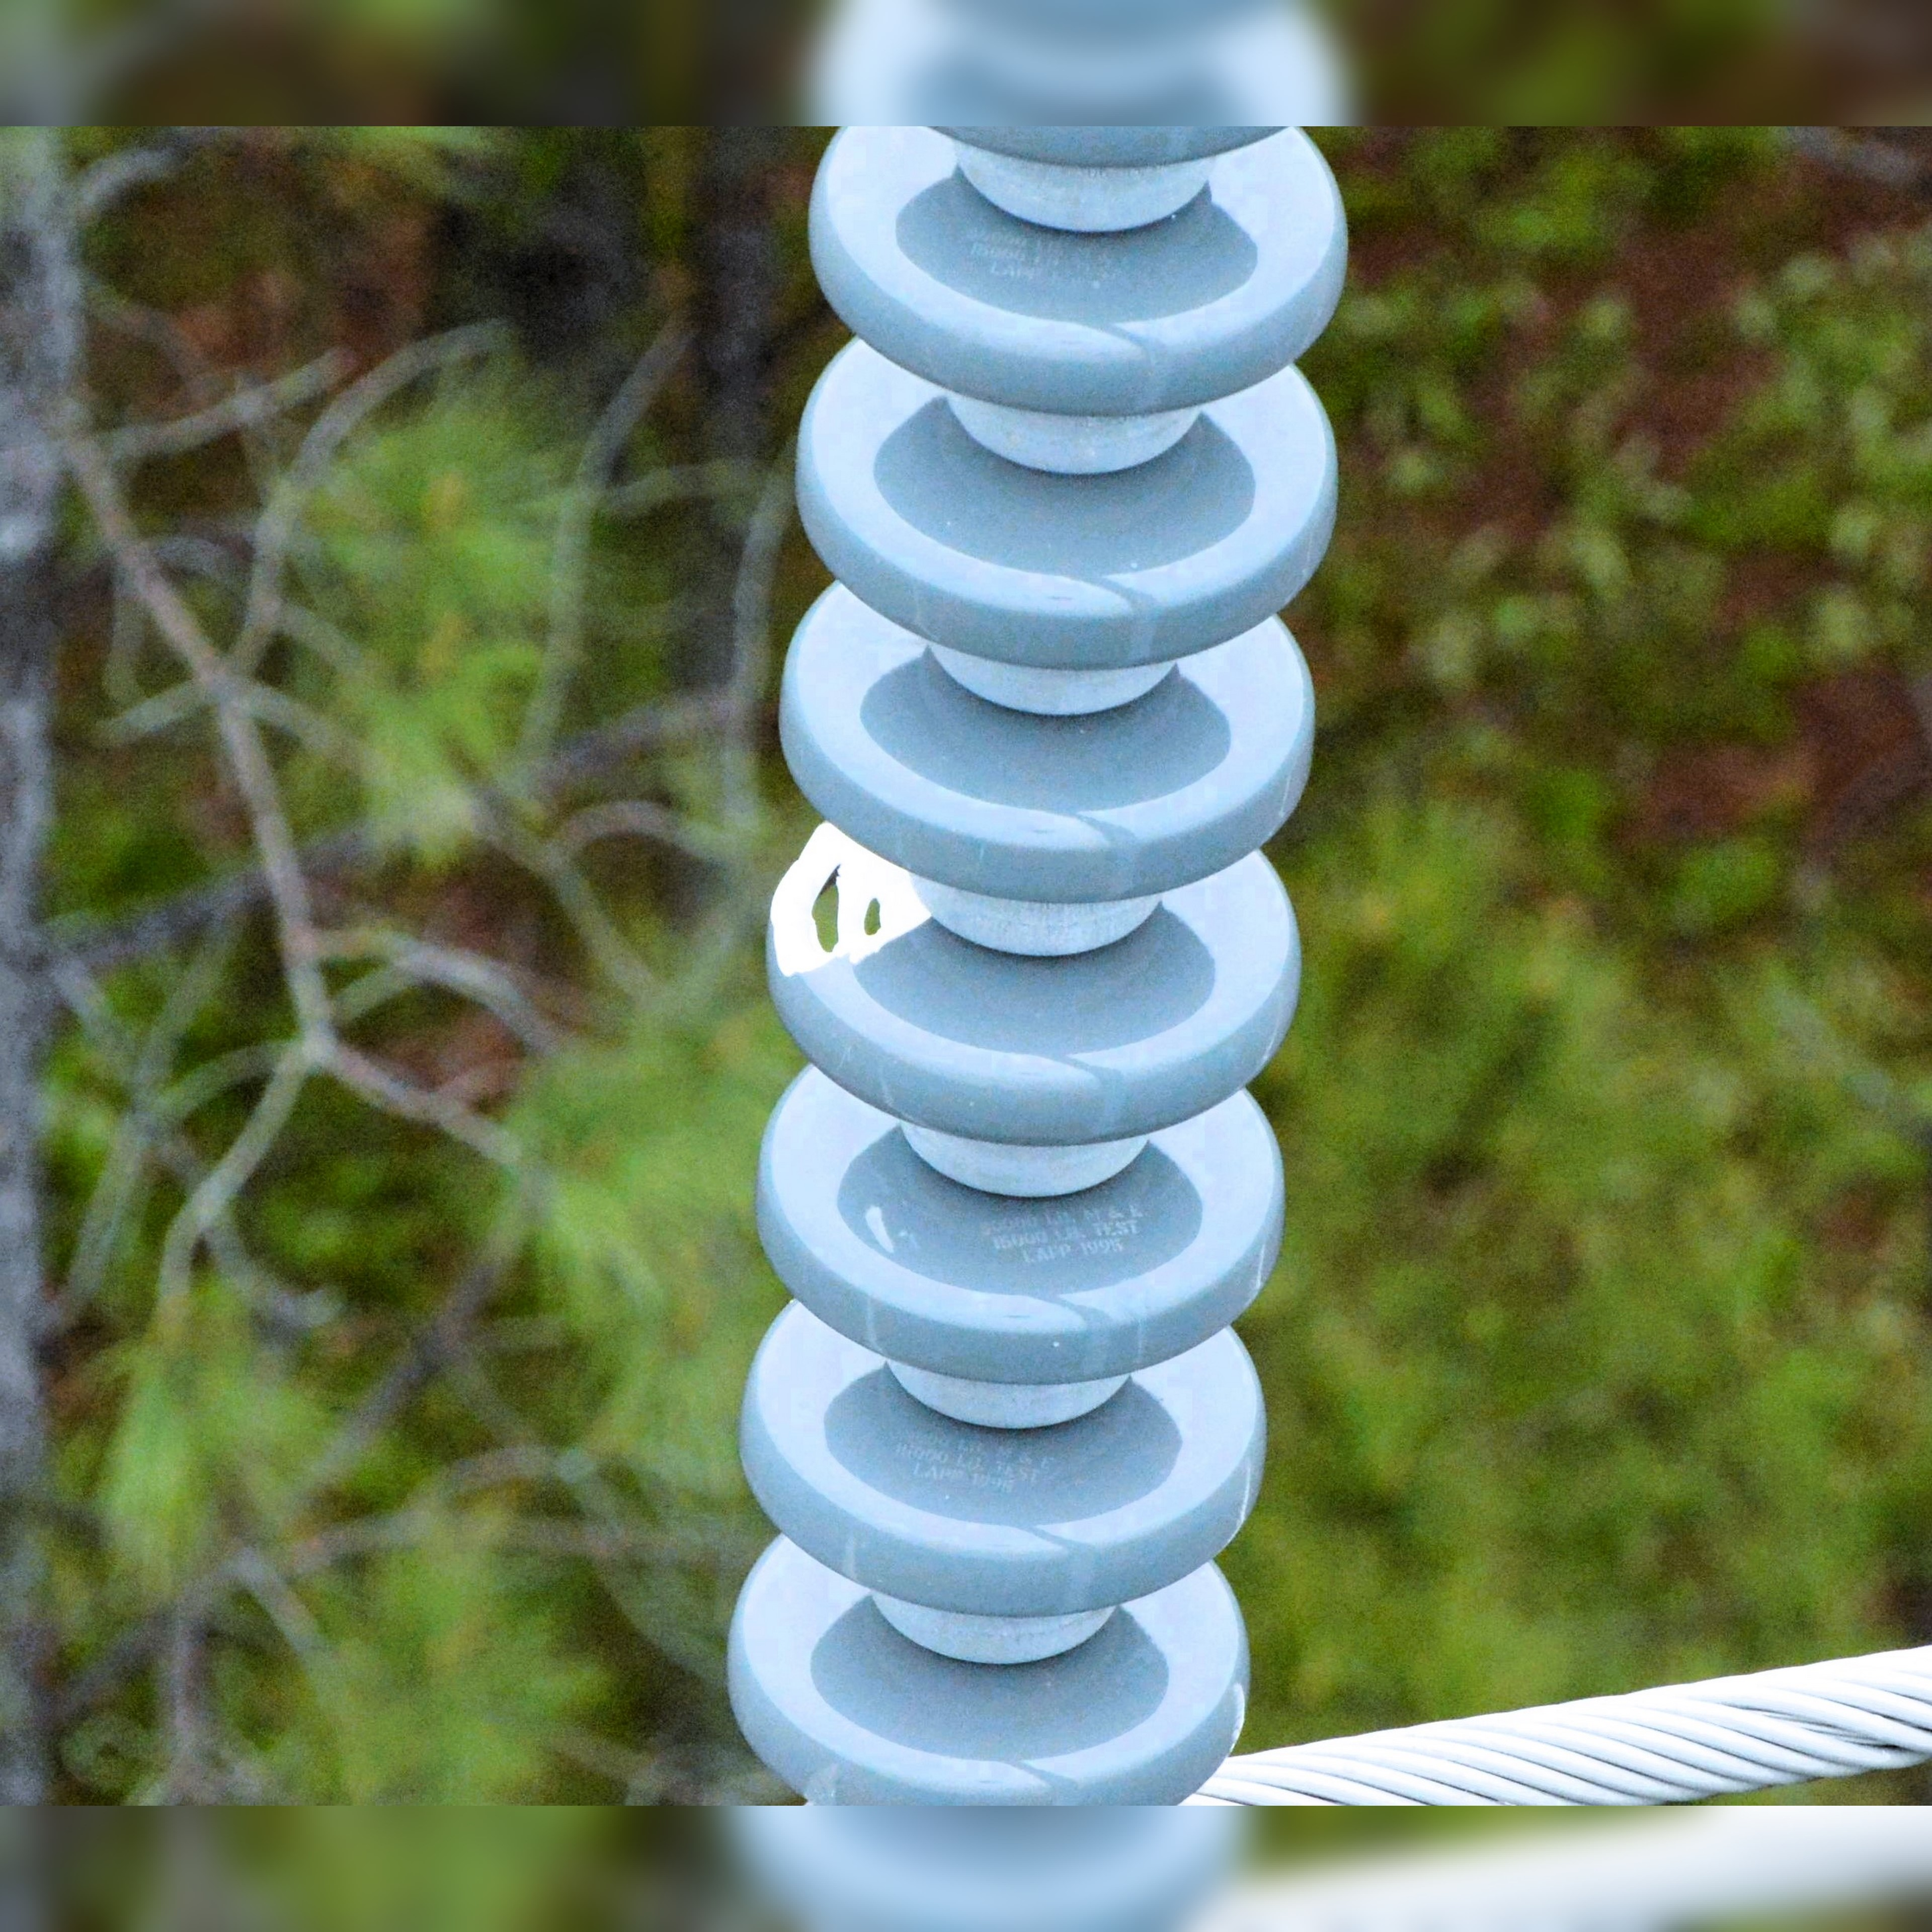insulator breakage: (722, 793, 1311, 1155)
